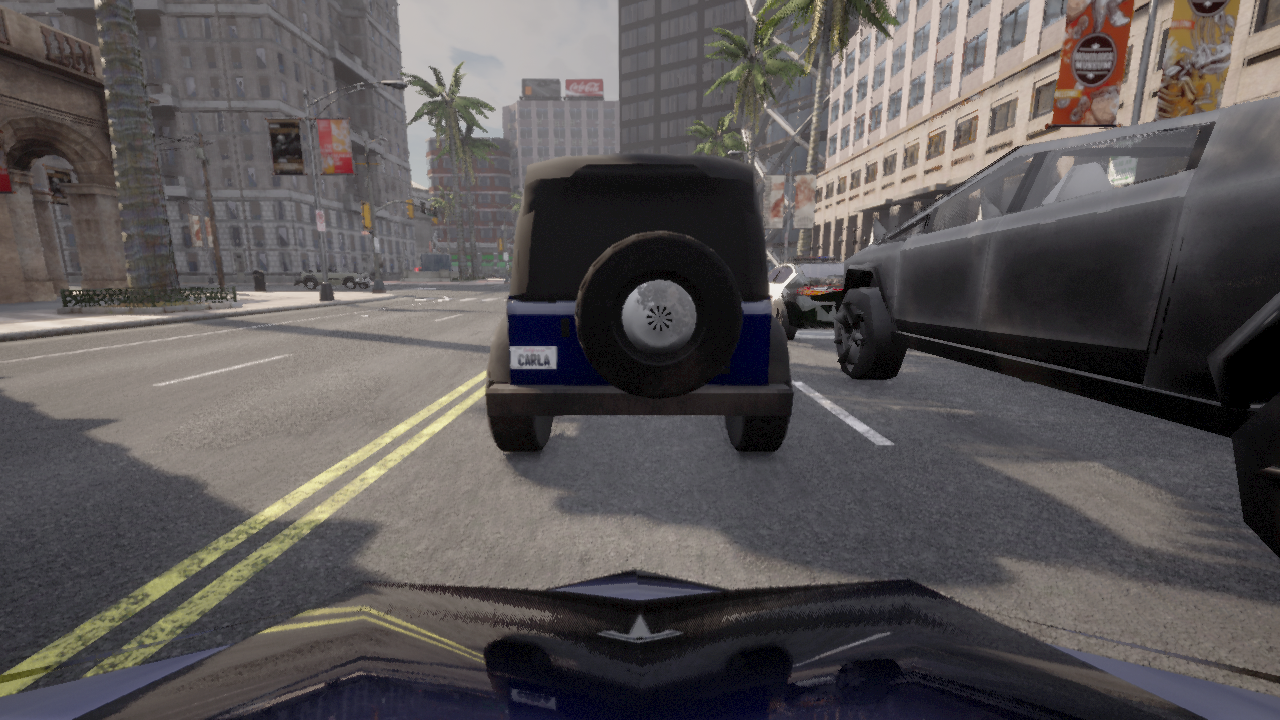cyclist: (831, 98, 1279, 558), (0, 569, 1279, 719), (486, 153, 792, 451), (768, 256, 842, 338), (299, 264, 372, 289), (293, 276, 341, 288)
